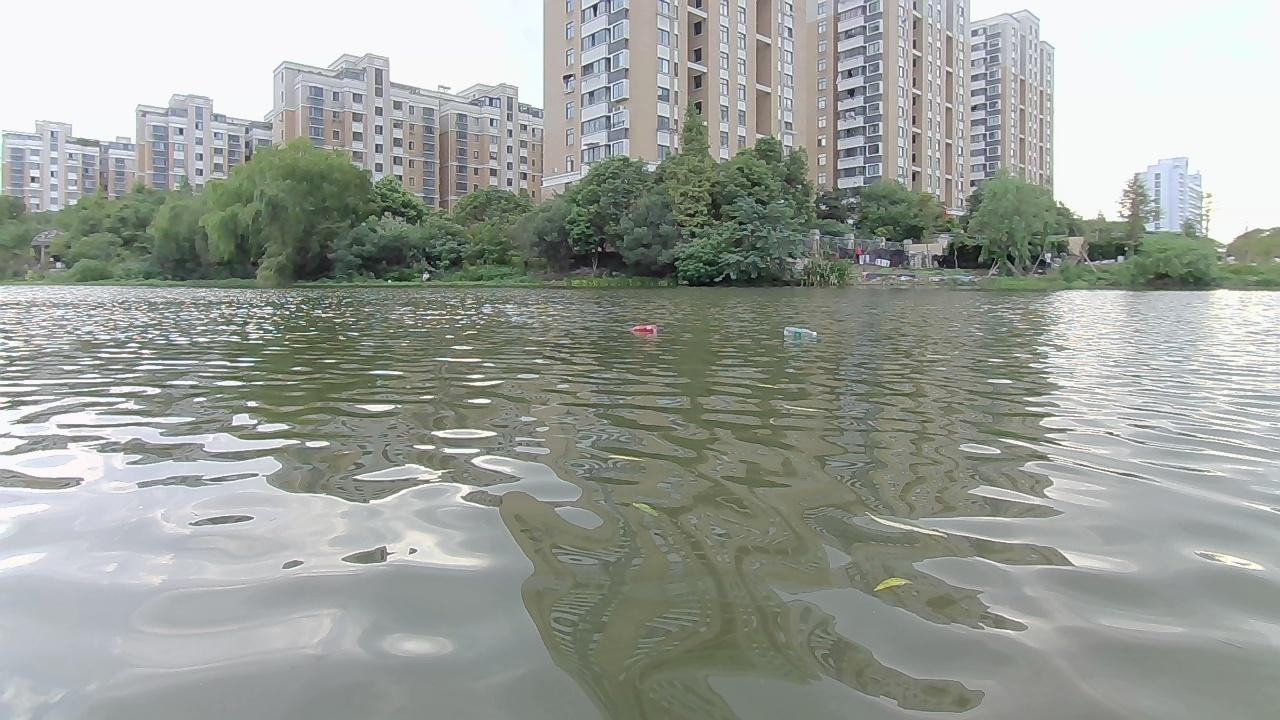bottle: (781, 323, 819, 343), (631, 320, 659, 339)
